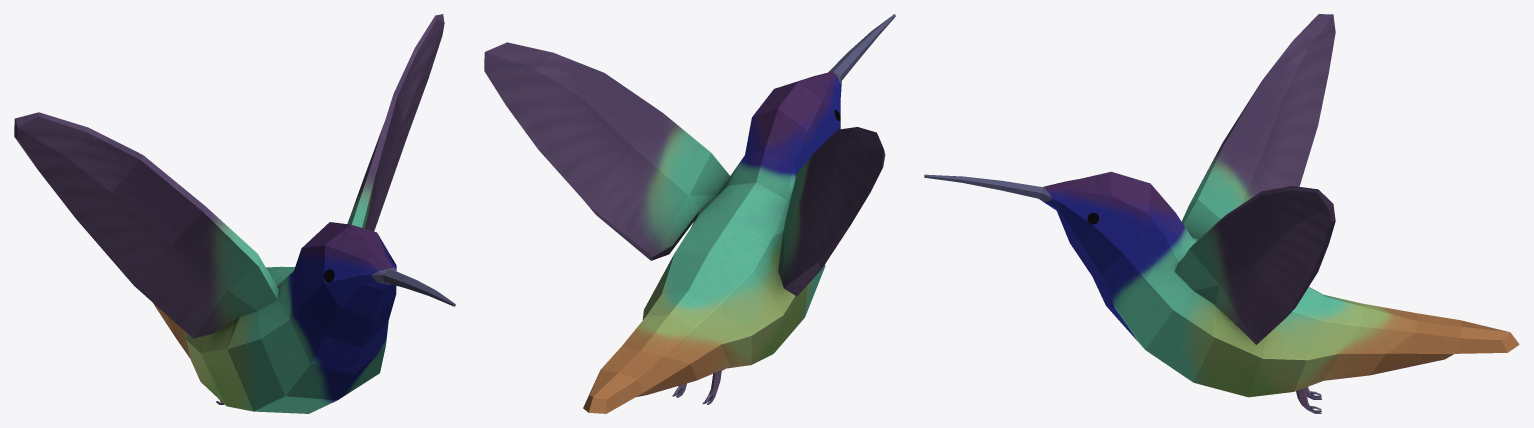
File: Hummingbird.glb
3 renders of one model, left to right at view 1: azimuth 30°, elevation 25°; view 2: azimuth 150°, elevation 25°; view 3: azimuth 270°, elevation 25°, orthographic. The views are drawn at different scales.
Visible parts, largest first — view 1: hummingbird; view 2: hummingbird; view 3: hummingbird.
Boxes of the visible parts, x1,y1,x2,y2 form: hummingbird: (14, 14, 455, 413); hummingbird: (484, 14, 895, 413); hummingbird: (924, 14, 1519, 413).
Bounding box in the file's own units: 0.248 × 0.1855 × 0.3292.
Materials: 1 (1 with a texture image).
